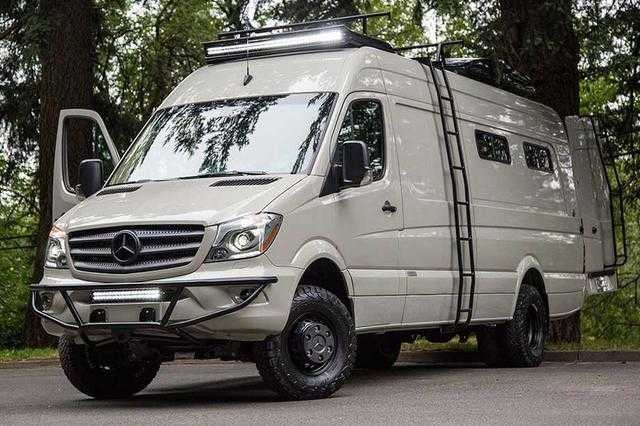van: (33, 47, 586, 400)
